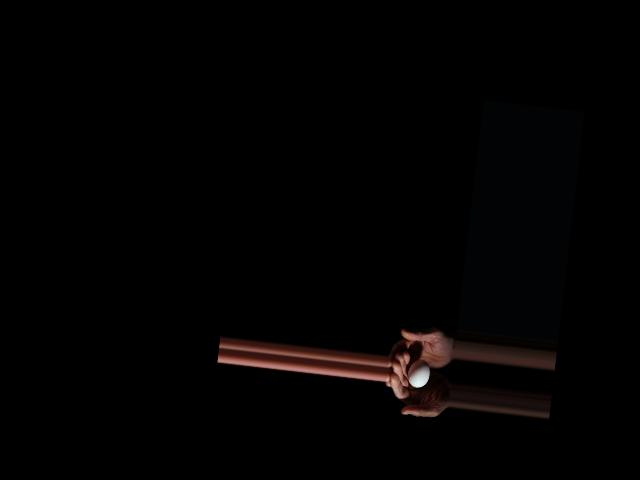egg: (406, 358, 431, 389)
